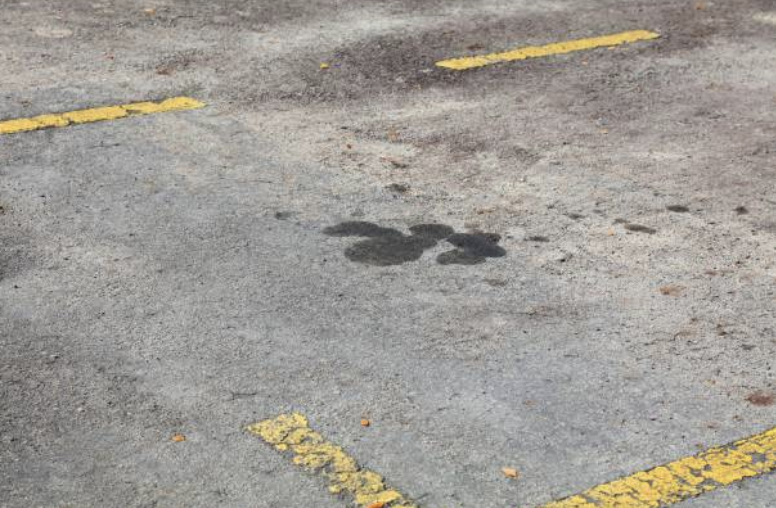oil: (162, 110, 256, 135)
